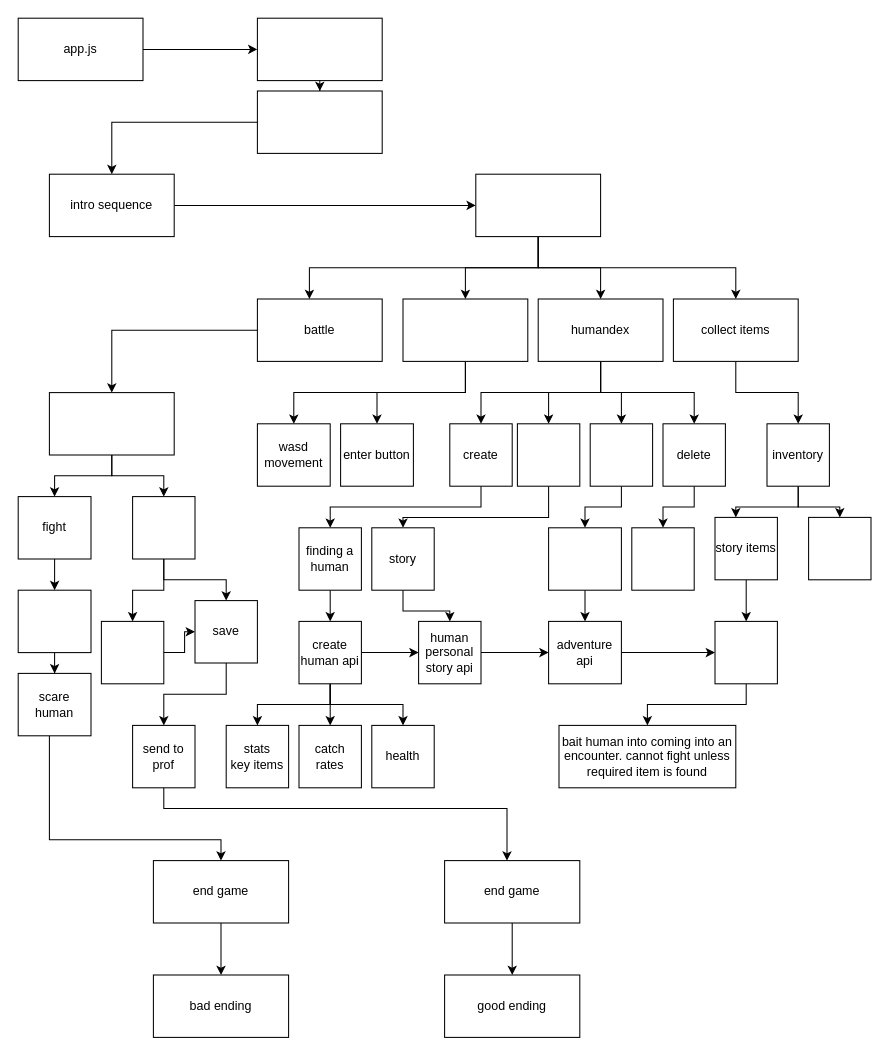
This 889x1056 diagram has some shape labels left out. The shapes that lost their labels are listed below. From the top down, each one's centre as x and y in pixels, then its label:
(319,49): home.js
(319,121): start
(538,205): world
(465,329): movement
(111,423): menu
(548,454): read
(621,454): update
(163,527): mercy
(584,558): required adventuring
(662,558): sending human to camp
(839,548): potions
(54,621): deal damage
(132,652): choices
(745,652): items api
